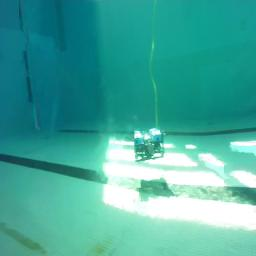front: (134, 128, 166, 162)
